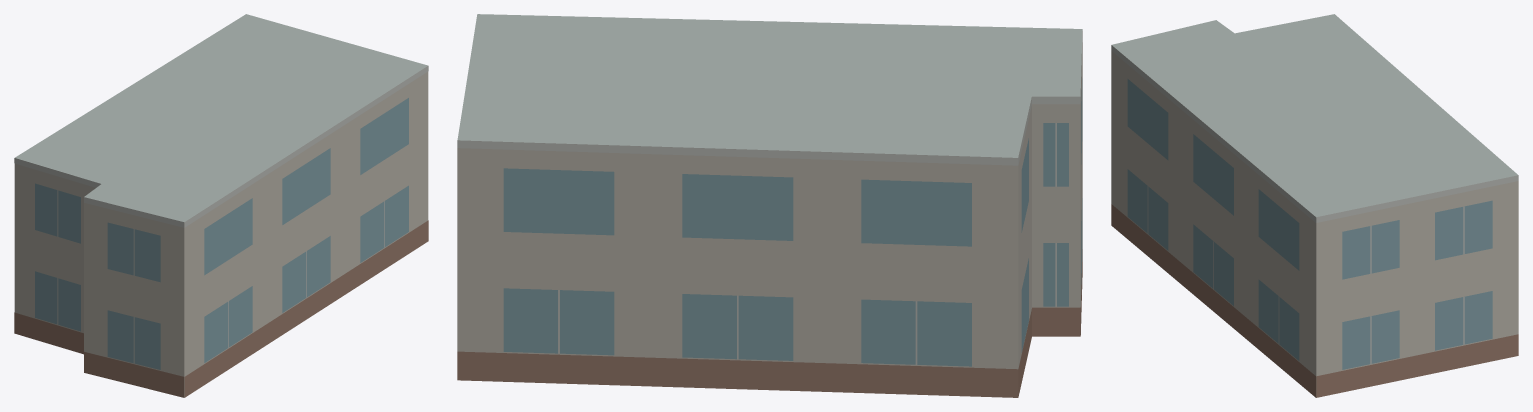
The model's file is survey-upis-33004637.glb.
3 renders of one model, left to right at view 1: azimuth 30°, elevation 25°; view 2: azimuth 150°, elevation 25°; view 3: azimuth 270°, elevation 25°, orthographic. The views are drawn at different scales.
Parts seen in each view (by area): view 1: survey-upis-33004637.tmp; view 2: survey-upis-33004637.tmp; view 3: survey-upis-33004637.tmp.
Boxes of the visible parts, box(x1,y1,x2,y2) form: survey-upis-33004637.tmp: box(14, 14, 428, 397); survey-upis-33004637.tmp: box(457, 14, 1082, 397); survey-upis-33004637.tmp: box(1111, 14, 1518, 397).
Bounding box in the file's own units: 18.35 × 7.6 × 15.54.
